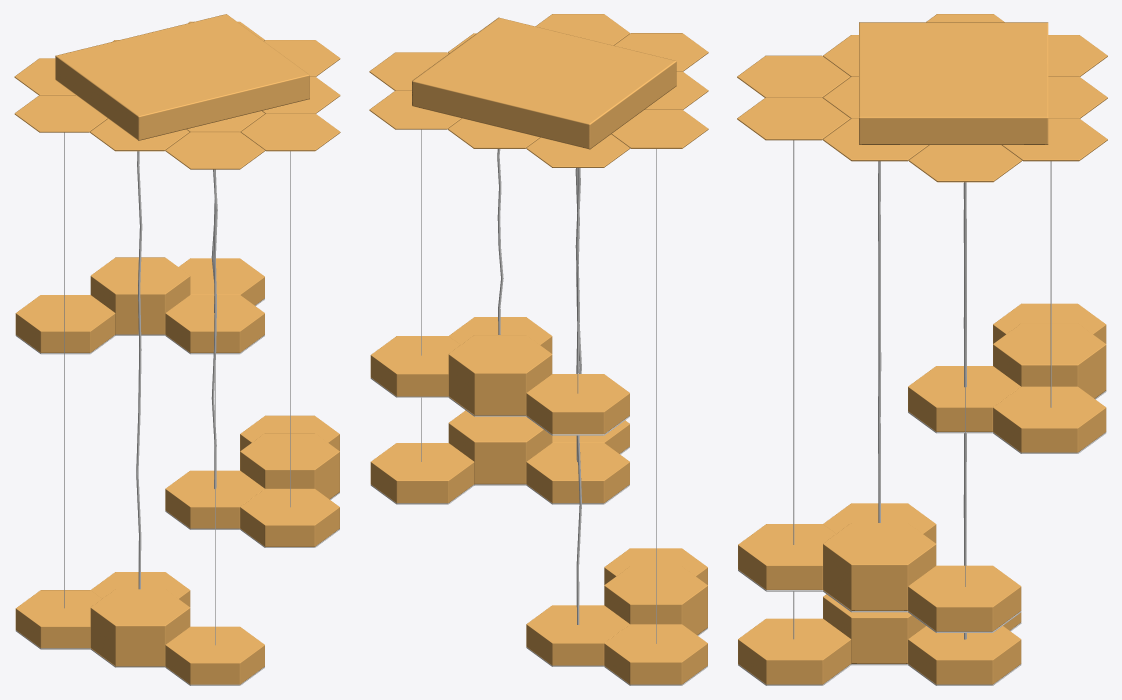
File: 750221_and_750223_favo_lightstar_ceiling_lamp.glb
3 views of the same model, side by side, from view 1: azimuth 30°, elevation 25°; view 2: azimuth 150°, elevation 25°; view 3: azimuth 270°, elevation 25° (orthographic). The views are drawn at different scales.
Parts seen in each view (by area): view 1: 75022x_Favo_Lightstar; view 2: 75022x_Favo_Lightstar; view 3: 75022x_Favo_Lightstar.
Part boxes in pixels (<box>): 75022x_Favo_Lightstar: <box>14,14,340,685</box>; 75022x_Favo_Lightstar: <box>369,14,708,685</box>; 75022x_Favo_Lightstar: <box>737,14,1107,685</box>.
Size of the model in its own units: 3.81 by 6.56 by 3.58.
